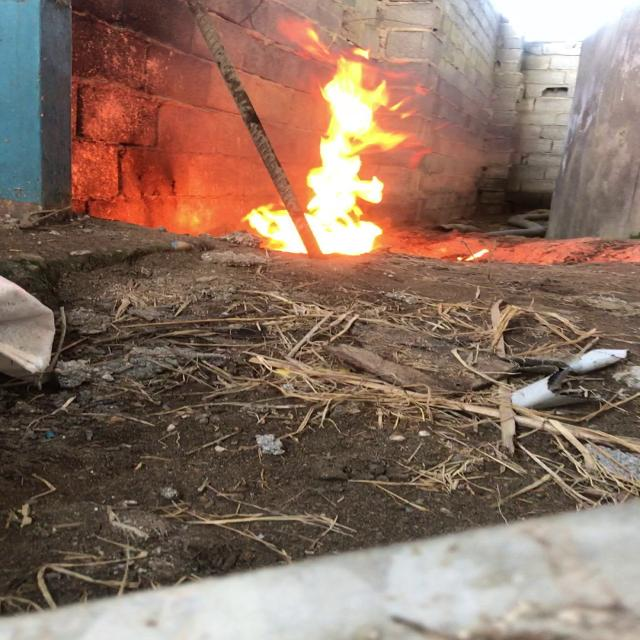fire: (271, 41, 401, 258)
